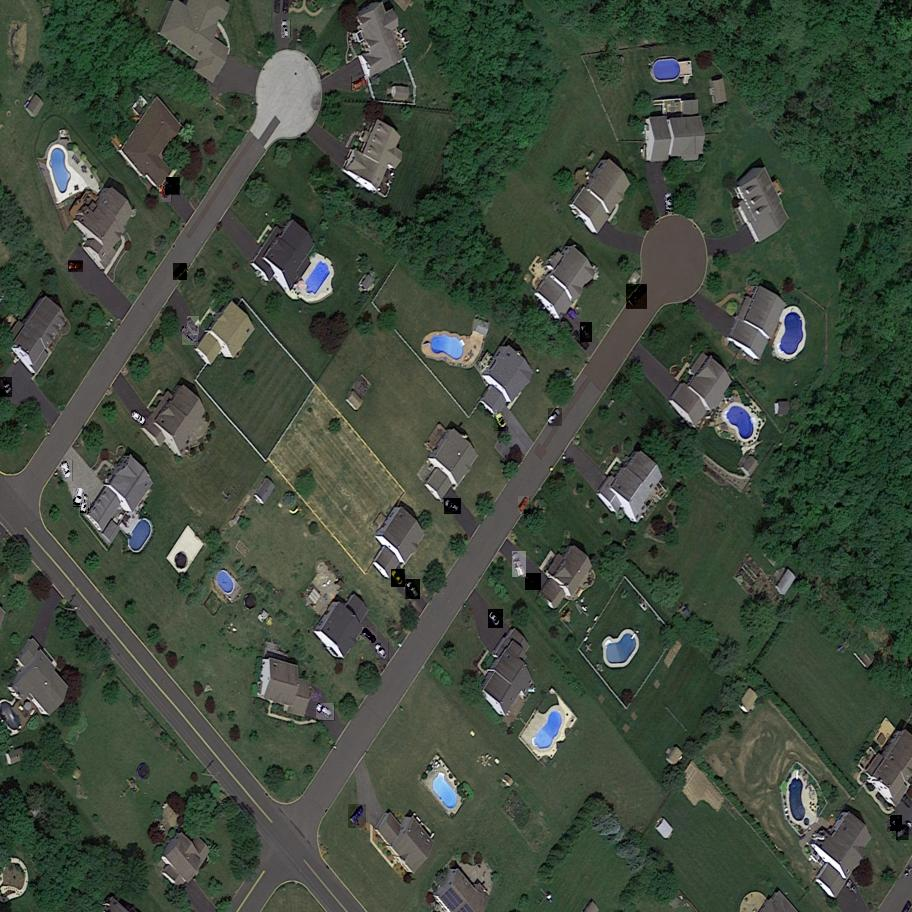small-vehicle: (625, 285, 649, 309), (347, 804, 369, 828), (512, 552, 529, 577), (180, 326, 201, 345), (487, 609, 506, 629), (315, 704, 337, 721), (374, 641, 392, 661), (442, 498, 463, 515), (523, 573, 542, 591), (129, 409, 149, 426), (548, 408, 565, 428), (405, 580, 422, 600), (391, 569, 408, 588), (361, 627, 378, 645), (494, 411, 509, 431), (164, 178, 180, 196), (517, 496, 533, 514), (0, 378, 14, 398), (580, 322, 594, 342), (895, 825, 912, 841), (172, 264, 189, 280), (351, 76, 369, 91), (187, 317, 202, 335), (61, 461, 73, 482), (159, 186, 173, 202), (74, 488, 85, 507), (281, 20, 292, 38), (889, 816, 902, 831), (68, 260, 83, 271), (666, 194, 674, 213), (81, 495, 89, 513)
